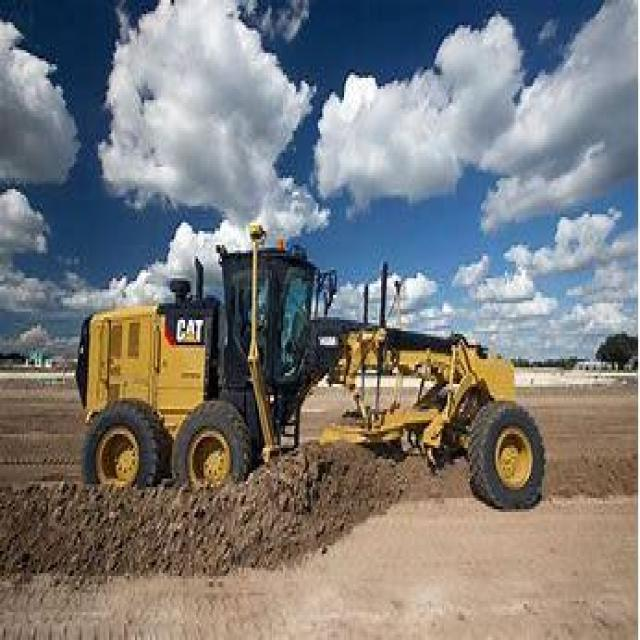bull_dozer/loader/grader: (69, 222, 552, 540)
